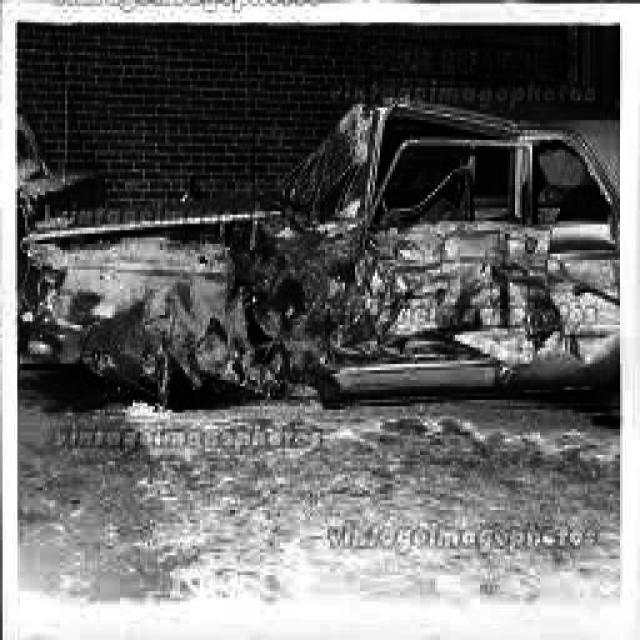car damage: (49, 94, 601, 393)
